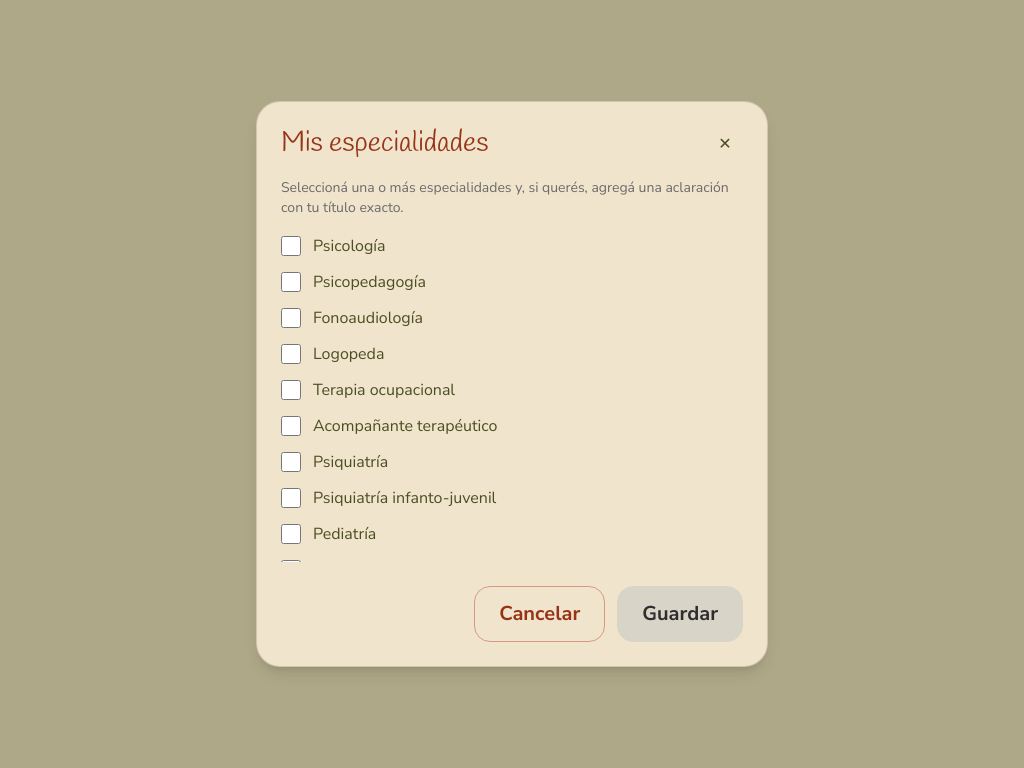
Scenario: EspecialidadModal › muestra error del servidor al fallar el guardado
Click the checkbox labelled "Psicología" at [291, 246], box [281,236,301,256]
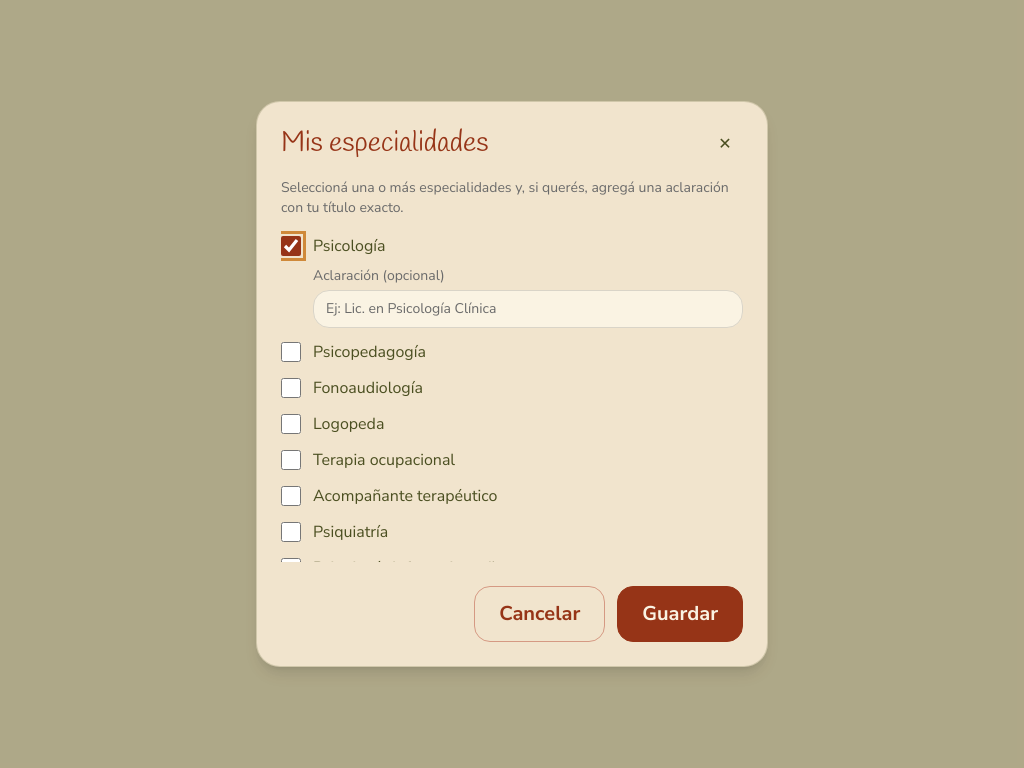
Click the button "Guardar" at [680, 614], box [617,586,743,642]
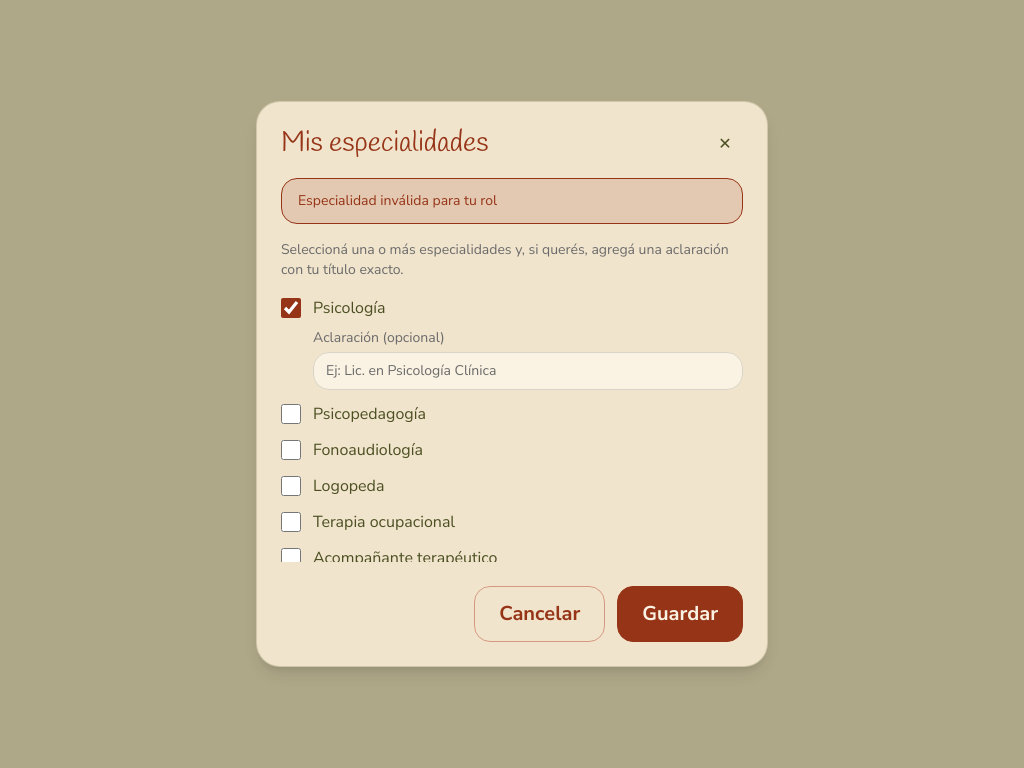
Now the text "Especialidad inválida para tu rol" is shown, box [281,178,743,224]
